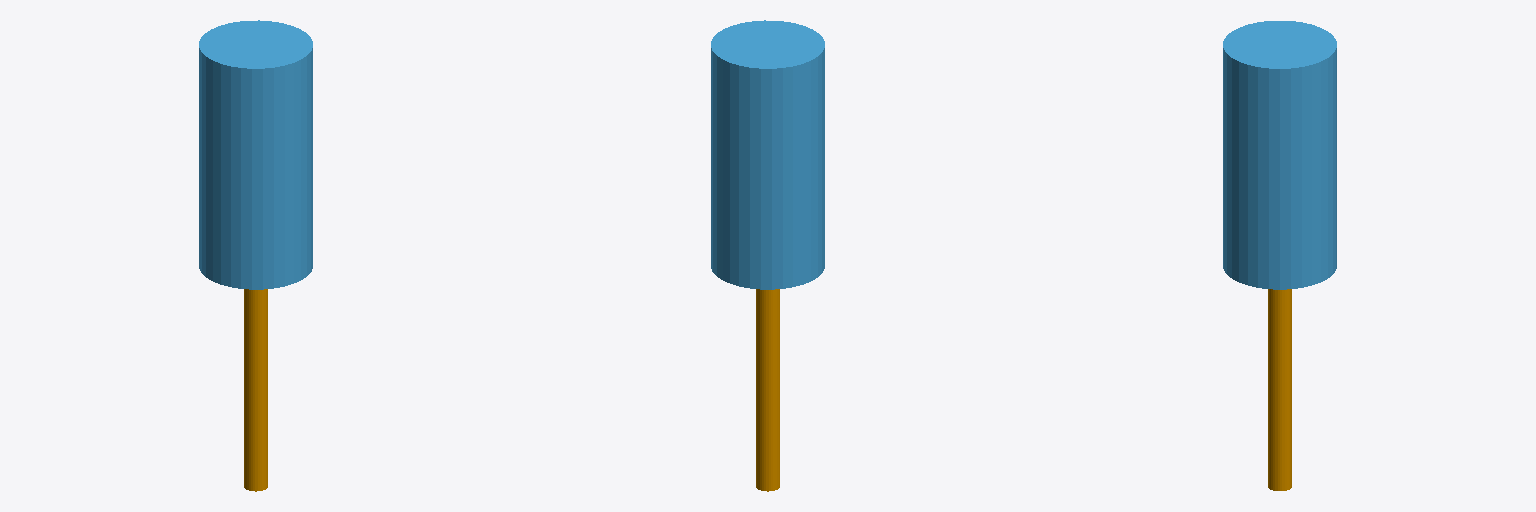
URDF robot description (screwdriver_on_the_table):
<?xml version="1.0" ?>
<!-- this is the one without any virtual joints and links -->
<robot name="screwdriver_on_the_table">
<link name="screwdriver_stick">
    <inertial>
      <mass value="0.05"/>
      <!-- <friction value="1.0"/> -->
      <inertia ixx="0.000041979" ixy="0.0" ixz="0.0" iyy="0.000041979" iyz="0.0" izz="0.000000625"/>
    </inertial>
    <visual>
        <origin rpy="0 0 0" xyz="0 0 0.05"/>
        <geometry>
            <cylinder radius="0.005" length="0.1"/>
        </geometry>
        <!-- <material name="White">
	 	    <color rgba="0.9 0.9 0.9 0.5"/>
        </material> -->
    </visual>
    <collision>
        <origin rpy="0 0 0" xyz="0 0 0.05"/>
        <geometry>
            <cylinder radius="0.005" length="0.1"/>
        </geometry>
    </collision>
</link>

<gazebo reference="screwdriver_body">
    <mu1>1.0</mu1>
    <mu2>1.0</mu2>
    <!-- Isaac Sim maps mu1/mu2 to PhysX static/dynamic friction during URDF→USD import -->
</gazebo>

<joint name="screwdriver_stick_body_joint" type="fixed">
    <parent link="screwdriver_stick"/>
    <child link="screwdriver_body"/>
    <origin rpy="0 0 0" xyz="0 0 0.1"/> 
    <axis xyz="0 0 1"/>
</joint>

<link name="screwdriver_body">
    <inertial>
      <mass value="0.1"/>
      <inertia ixx="0.000097180" ixy="0.0" ixz="0.0" iyy="0.000097180" iyz="0.0" izz="0.000027692"/>
    </inertial>
    <visual>
        <origin rpy="0 0 0" xyz="0 0 0.05"/>
        <geometry>
            <cylinder radius="0.023534" length="0.1"/>
        </geometry>
        <!-- <material name="Red1">
	 	    <color rgba="0.9 0. 0. 0.5"/>
        </material> -->
    </visual>
    <collision>
        <origin rpy="0 0 0" xyz="0 0 0.05"/>
        <geometry>
            <cylinder radius="0.023534" length="0.1"/>
        </geometry>
    </collision>
</link>

<!-- <joint name="screwdriver_body_cap_joint" type="revolute">
    <parent link="screwdriver_body"/>
    <child link="screwdriver_cap"/>
    <origin rpy="0 0 0" xyz="0 0 0.1"/> 
    <axis xyz="0 0 1"/>
</joint>

<link name="screwdriver_cap">
    <inertial>
      <mass value="0.005"/>
      <inertia ixx="0.00001" ixy="0.0" ixz="0.0" iyy="0.000005" iyz="0.0" izz="0.000005"/>
    </inertial>
    <visual>
        <origin rpy="0 0 0" xyz="0 0 0.0006"/>
        <geometry>
            <cylinder radius="0.02" length="0.001"/>
        </geometry>
        <material name="Yellow">
	 	    <color rgba="0.9 0.9 0. 1.0"/>
        </material>
    </visual>
    <collision>
        <origin rpy="0 0 0" xyz="0 0 0.0005"/>
        <geometry>
            <cylinder radius="0.02" length="0.001"/>
        </geometry>
    </collision>
</link> -->

</robot>

--- Facts derived from the render (not from the file) ---
The picture shows the robot from 3 angles, left to right: view 1: azimuth 30°, elevation 25°; view 2: azimuth 150°, elevation 25°; view 3: azimuth 270°, elevation 25°; orthographic projection.
Robot: screwdriver_on_the_table — 2 links, 1 joints (1 fixed); root link screwdriver_stick; default pose: all joints at 0.
Links seen in each view (by area): view 1: screwdriver_body, screwdriver_stick; view 2: screwdriver_body, screwdriver_stick; view 3: screwdriver_body, screwdriver_stick.
Boxes of the visible links, left/top/right/bottom form: screwdriver_body: left=199, top=20, right=312, bottom=289; screwdriver_stick: left=244, top=289, right=267, bottom=491; screwdriver_body: left=711, top=20, right=824, bottom=289; screwdriver_stick: left=756, top=289, right=779, bottom=491; screwdriver_body: left=1223, top=21, right=1336, bottom=289; screwdriver_stick: left=1268, top=289, right=1291, bottom=490.
Size in the robot's own frame: 0.0471 by 0.0471 by 0.2 metres.
Geometry: primitives only (box / cylinder / sphere), no mesh files.
